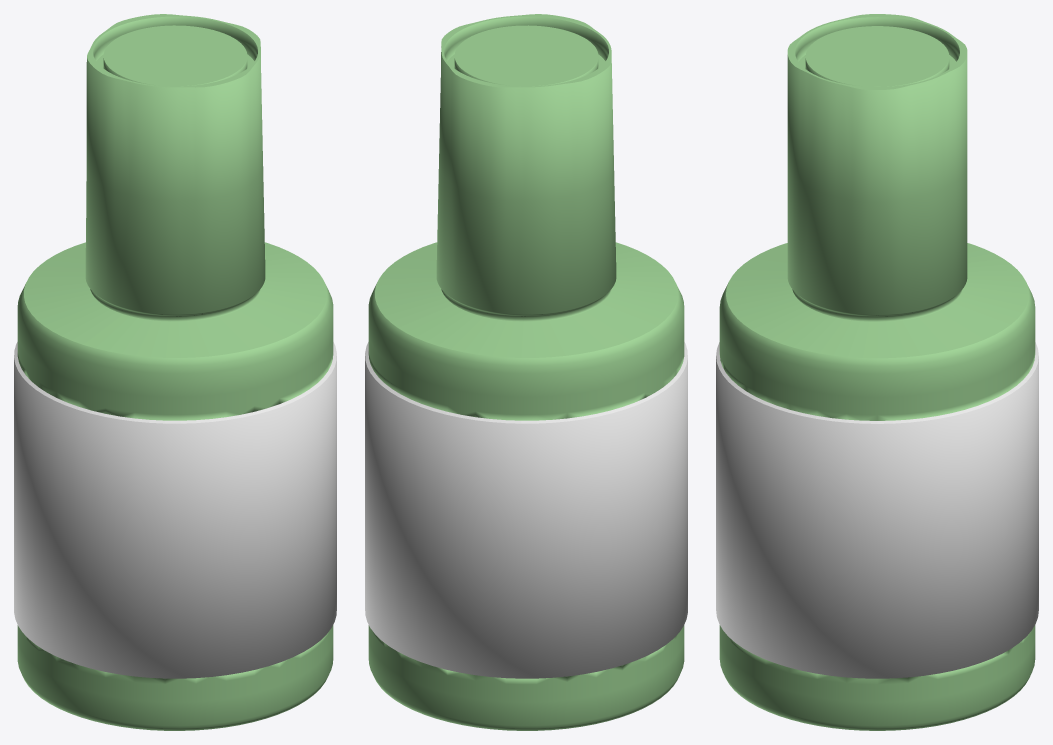
The model's file is Corrector.fbx.
The picture shows the model from 3 angles, left to right: view 1: azimuth 30°, elevation 25°; view 2: azimuth 150°, elevation 25°; view 3: azimuth 270°, elevation 25°; orthographic projection.
Visible parts, largest first — view 1: Corrector; view 2: Corrector; view 3: Corrector.
Boxes of the visible parts, box(x1,y1,x2,y2) form: Corrector: box(14, 14, 336, 730); Corrector: box(365, 14, 687, 730); Corrector: box(716, 14, 1038, 730).
Bounding box in the file's own units: 7.99 × 16.76 × 7.99.
